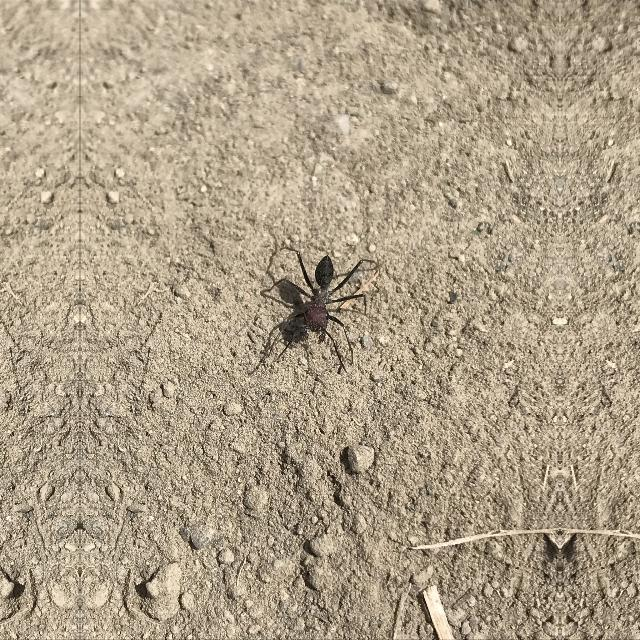Cataglyphis: (284, 242, 354, 356)
